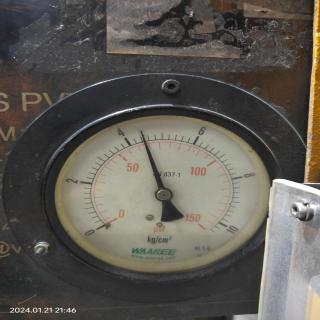gauge: (39, 95, 270, 309), (83, 208, 127, 244), (183, 212, 225, 244), (153, 186, 173, 202), (136, 126, 146, 138)
